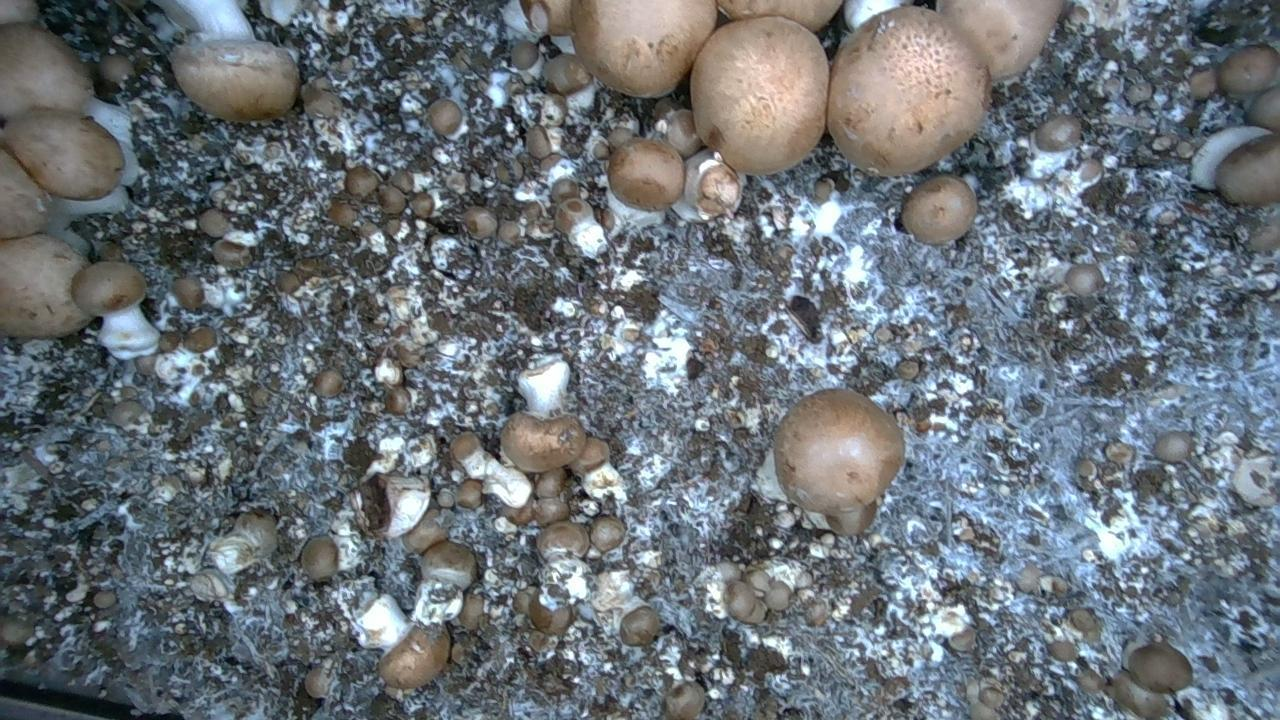BB: (827, 7, 989, 175), (691, 17, 828, 174), (773, 389, 904, 515), (571, 0, 716, 97), (3, 109, 123, 200), (170, 40, 299, 120), (937, 0, 1063, 79), (0, 234, 91, 339), (0, 22, 92, 119), (607, 137, 684, 210), (901, 175, 976, 244), (501, 412, 585, 471), (378, 624, 450, 689), (1215, 133, 1279, 206), (717, 0, 841, 31), (1217, 45, 1279, 96), (1128, 643, 1192, 692), (420, 540, 477, 590), (1109, 671, 1168, 719), (543, 53, 591, 95), (1032, 114, 1081, 152), (520, 0, 572, 35), (665, 109, 702, 158), (826, 501, 877, 535), (301, 535, 337, 579), (665, 682, 705, 719), (569, 437, 609, 474), (1247, 86, 1279, 132), (1154, 430, 1193, 463), (590, 516, 625, 552), (428, 99, 462, 136), (1065, 264, 1103, 296), (212, 239, 252, 268), (98, 54, 134, 84), (173, 276, 203, 310), (293, 683, 319, 719), (535, 468, 567, 497), (450, 431, 480, 461), (198, 208, 228, 237), (764, 580, 792, 611), (525, 125, 551, 158), (313, 369, 342, 397), (378, 185, 406, 213), (511, 41, 538, 69), (456, 479, 482, 508), (410, 192, 434, 218), (1048, 640, 1077, 661), (813, 178, 835, 204), (970, 702, 997, 719), (93, 590, 116, 608), (897, 360, 918, 379)
